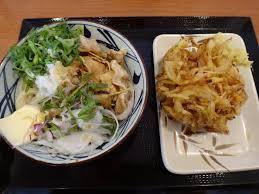kakiage: (162, 41, 247, 132)
